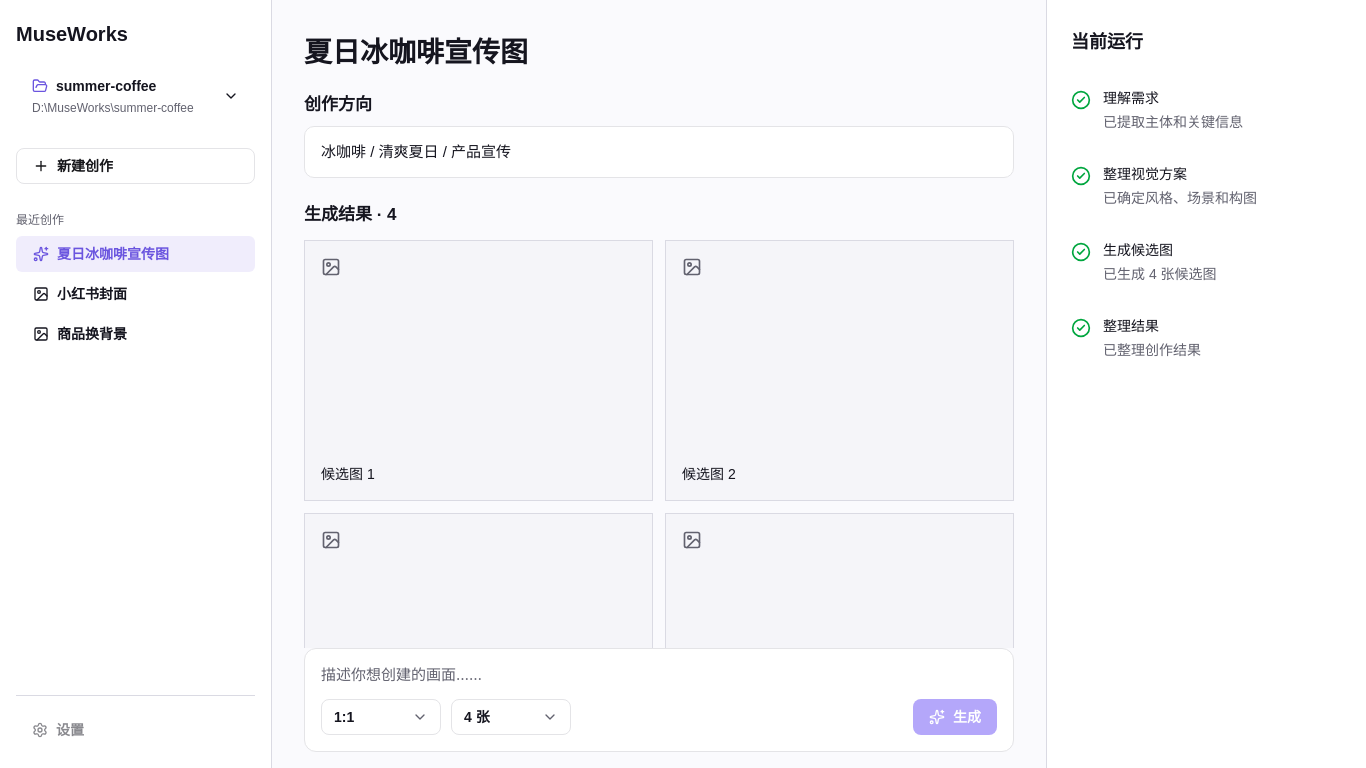
Test: creative workspace renderer › does not let a pending mock run cross into a newly activated Workspace
Check: the heading "夏日冰咖啡宣传图" is shown, box [304, 37, 528, 68]
Step 1. Click the button "新建创作" → (136, 166), box [16, 148, 255, 184]
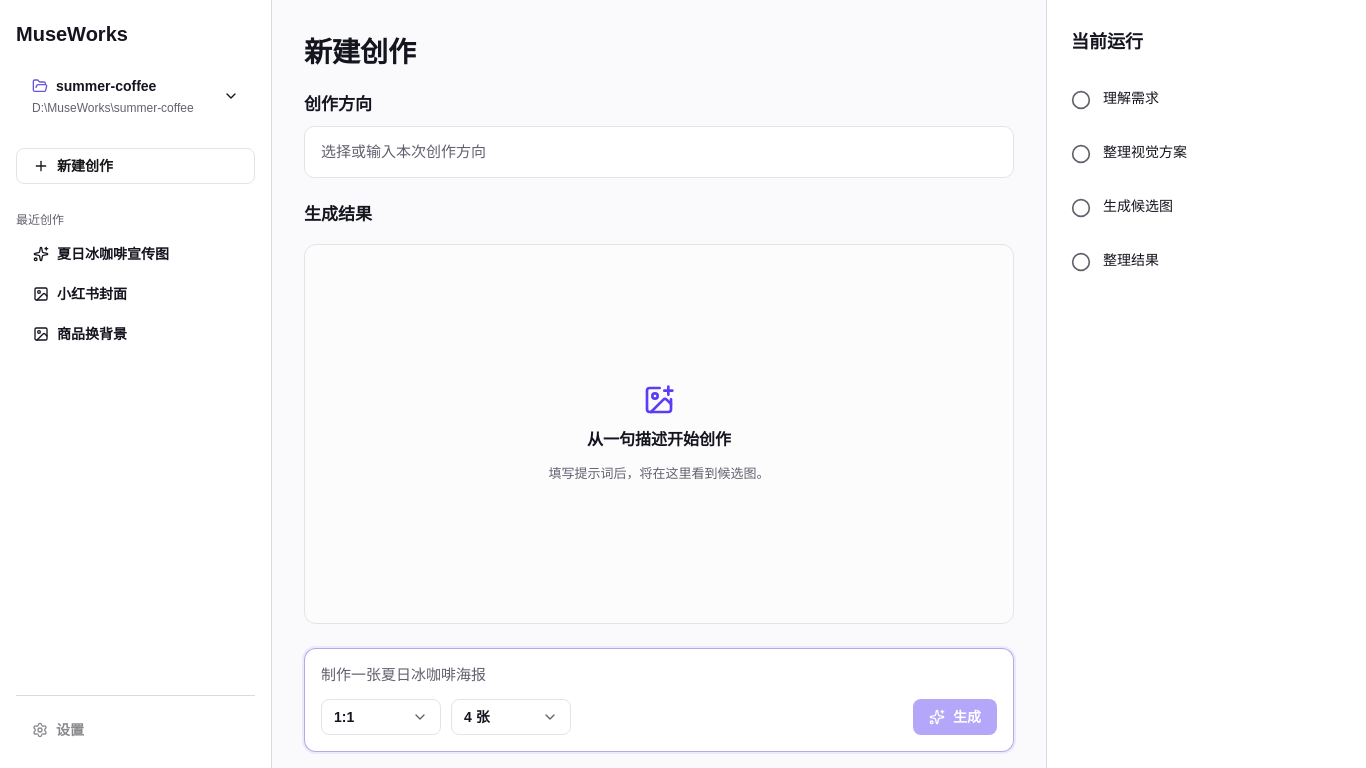
Step 2. Clear the field named "创作描述" → (404, 674), box [321, 665, 486, 684]
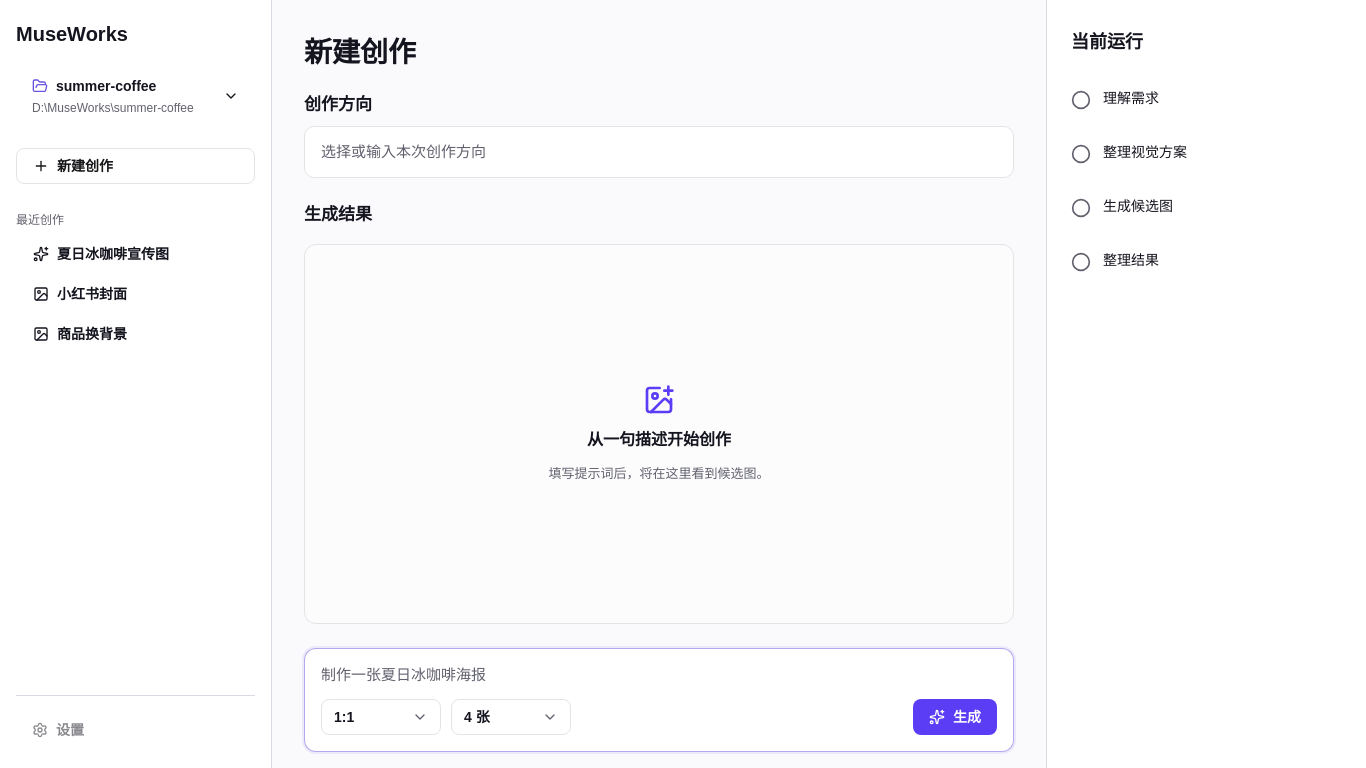
Check: the button "生成" is enabled, box [913, 699, 997, 735]
Step 3. Press Enter in the field named "创作描述", box [321, 665, 486, 684]
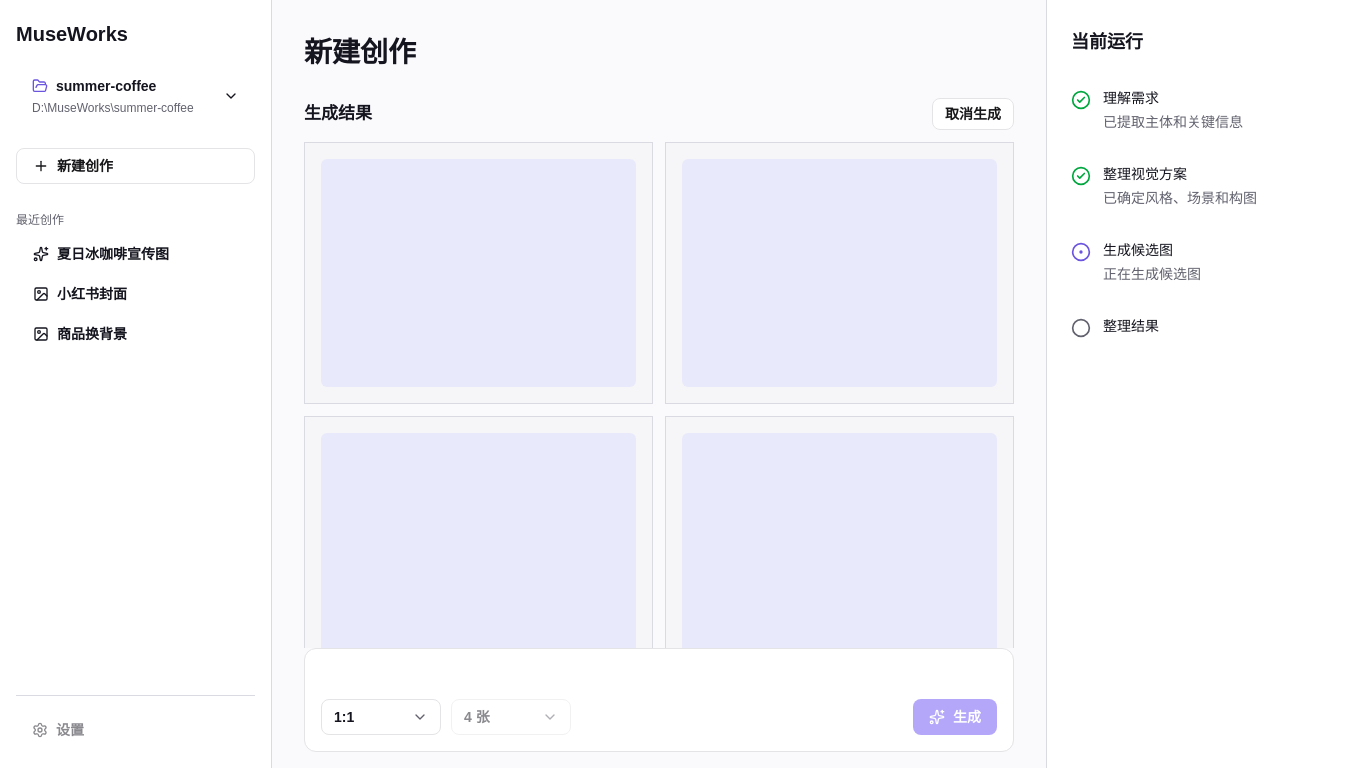
Check: the text "正在生成候选图" is shown, box [1103, 264, 1201, 284]
Step 4. Press the mouse on the button "summer-coffee D:\\MuseWorks\\summer-coffee" → (136, 96), box [16, 68, 255, 124]
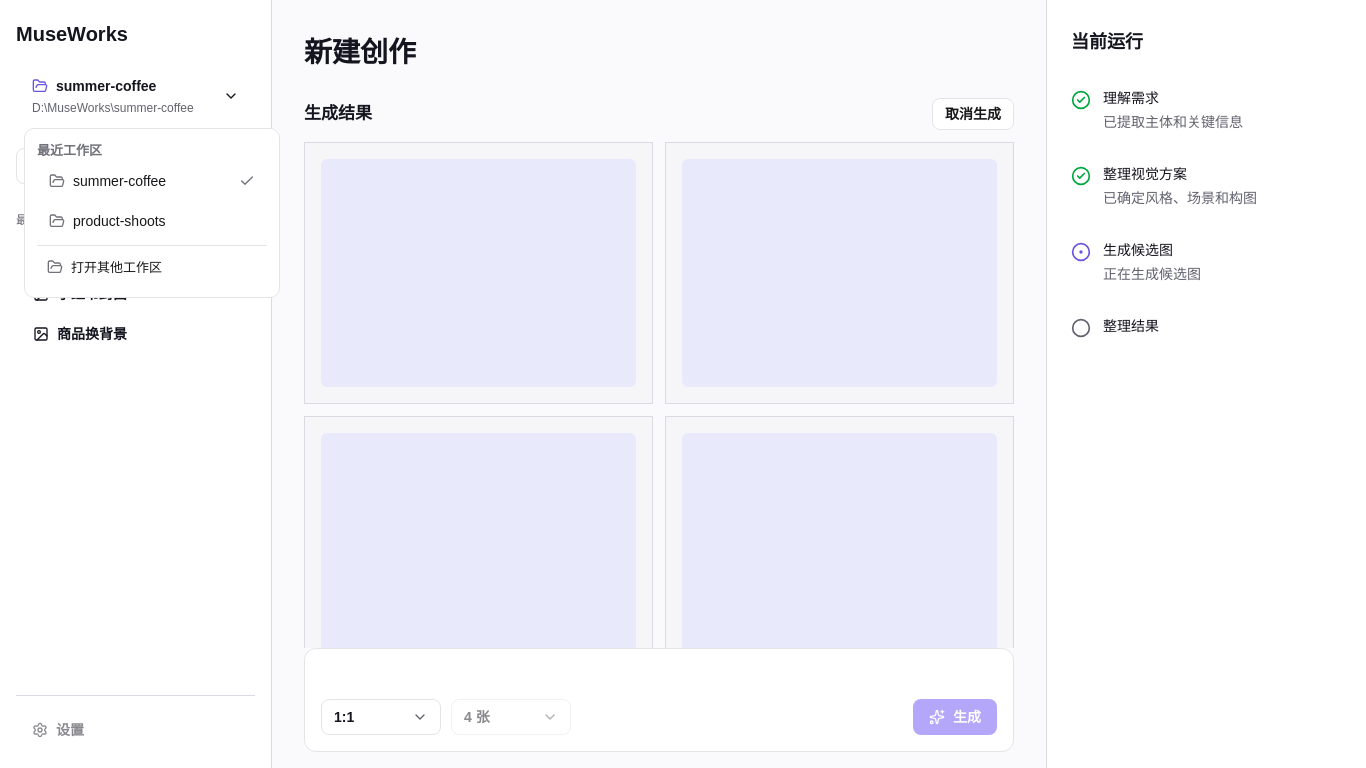
Step 5. Click the menu item "product-shoots" → (107, 220), box [49, 212, 166, 228]
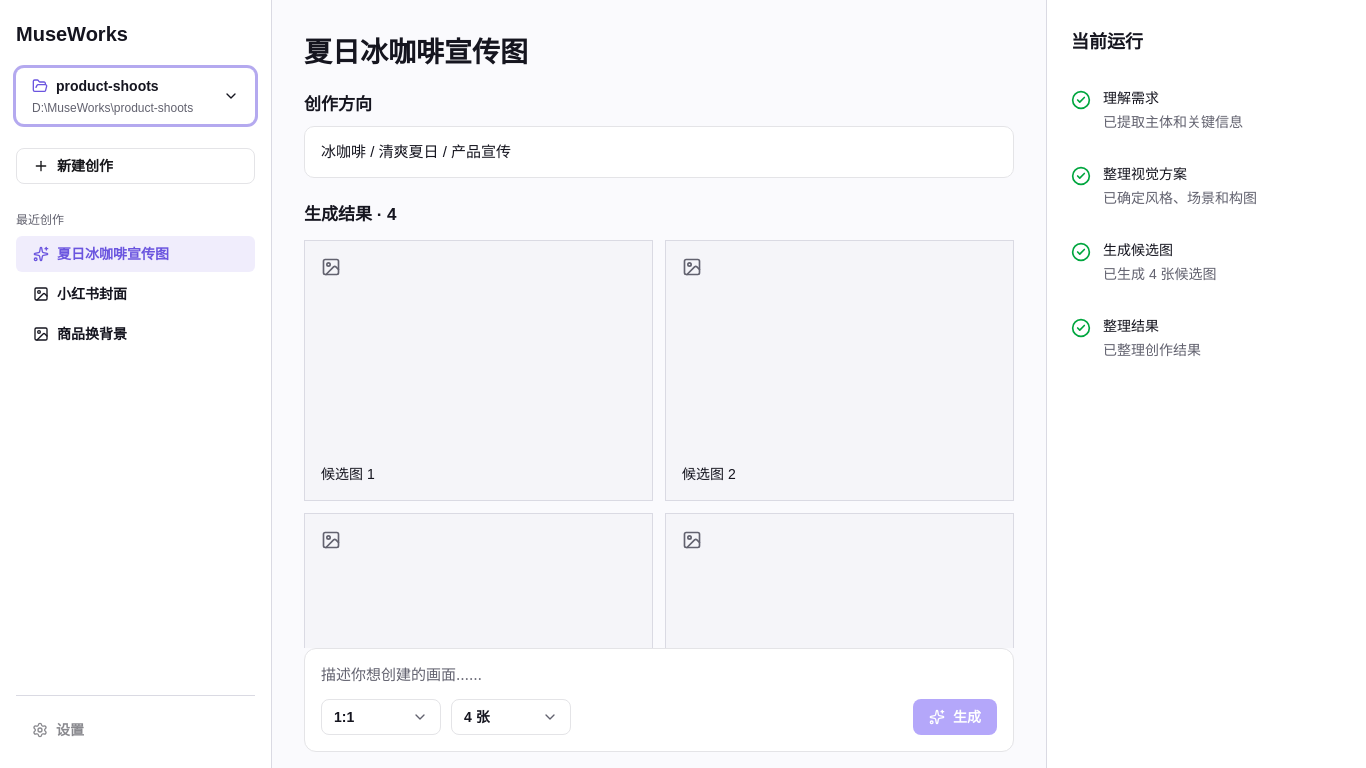
Check: the button "product-shoots D:\\MuseWorks\\product-shoots" is shown, box [16, 68, 255, 124]
